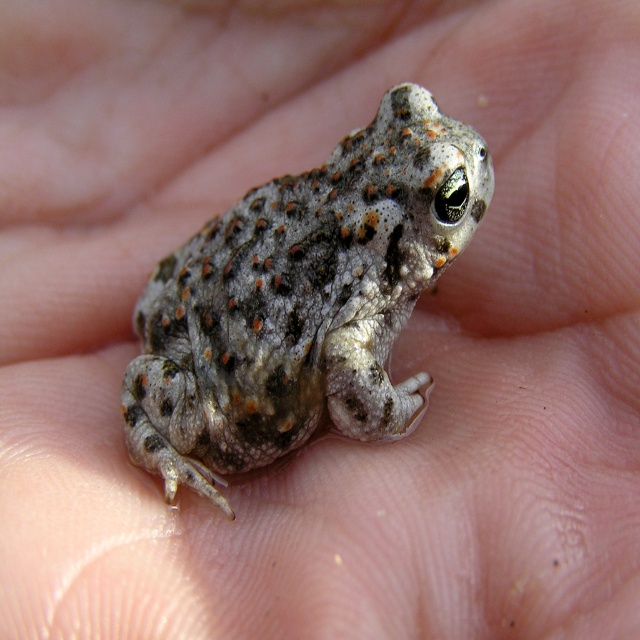Frog: (116, 79, 498, 526)
